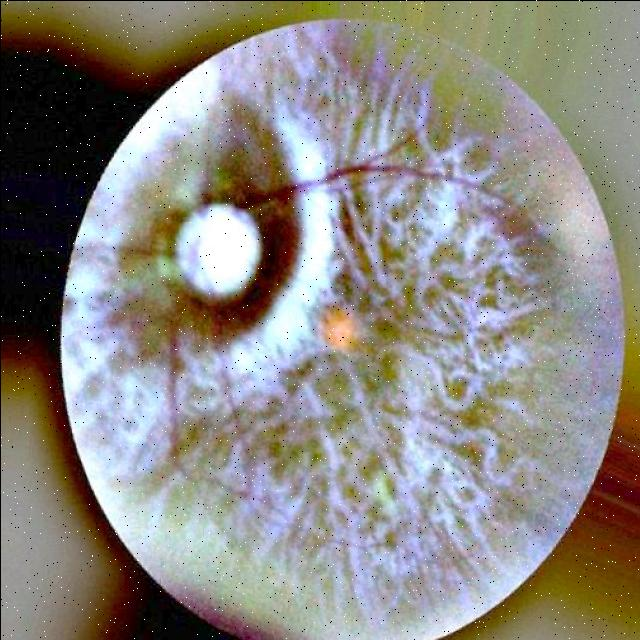Macula: (324, 312, 354, 346)
Nerves: (244, 136, 416, 206), (219, 357, 253, 496), (169, 294, 181, 470)
Optic Disk: (177, 203, 259, 296)
